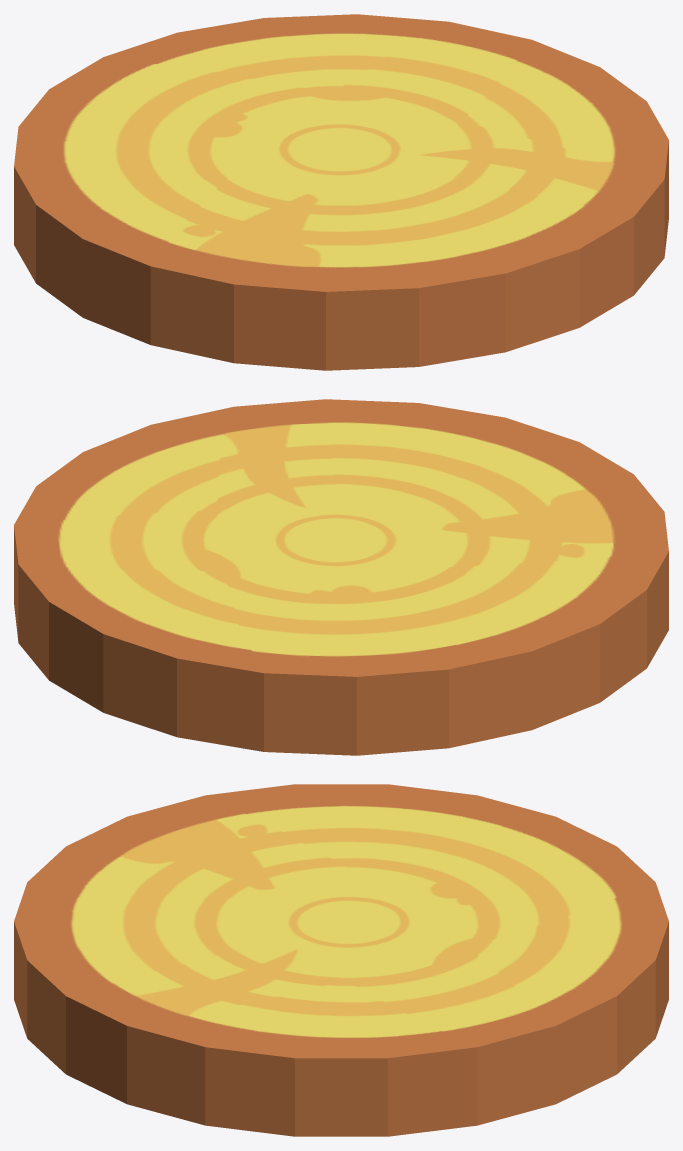
Rendered from Cutting Board.fbx.
The picture shows the model from 3 angles, top to bottom: view 1: azimuth 30°, elevation 25°; view 2: azimuth 150°, elevation 25°; view 3: azimuth 270°, elevation 25°; orthographic projection.
Parts seen in each view (by area): view 1: Board2, Board0, Board1, Board3, Board5, Board4; view 2: Board2, Board3, Board4, Board1, Board0, Board5; view 3: Board2, Board5, Board0, Board4, Board3, Board1.
Boxes of the visible parts, x1,y1,x2,y2 form: Board2: (150, 138, 633, 370); Board0: (274, 21, 664, 294); Board1: (14, 127, 220, 344); Board3: (18, 57, 331, 184); Board5: (462, 40, 668, 255); Board4: (104, 14, 448, 93); Board2: (326, 399, 668, 570); Board3: (224, 566, 466, 755); Board4: (18, 564, 263, 751); Board1: (449, 551, 668, 748); Board0: (14, 399, 344, 640); Board5: (14, 406, 233, 524); Board2: (14, 795, 405, 1073); Board5: (127, 981, 477, 1136); Board0: (66, 904, 555, 1125); Board4: (468, 882, 668, 1103); Board3: (338, 816, 655, 947); Board1: (206, 784, 554, 861).
Size of the model in its own units: 198 by 26.43 by 200.
